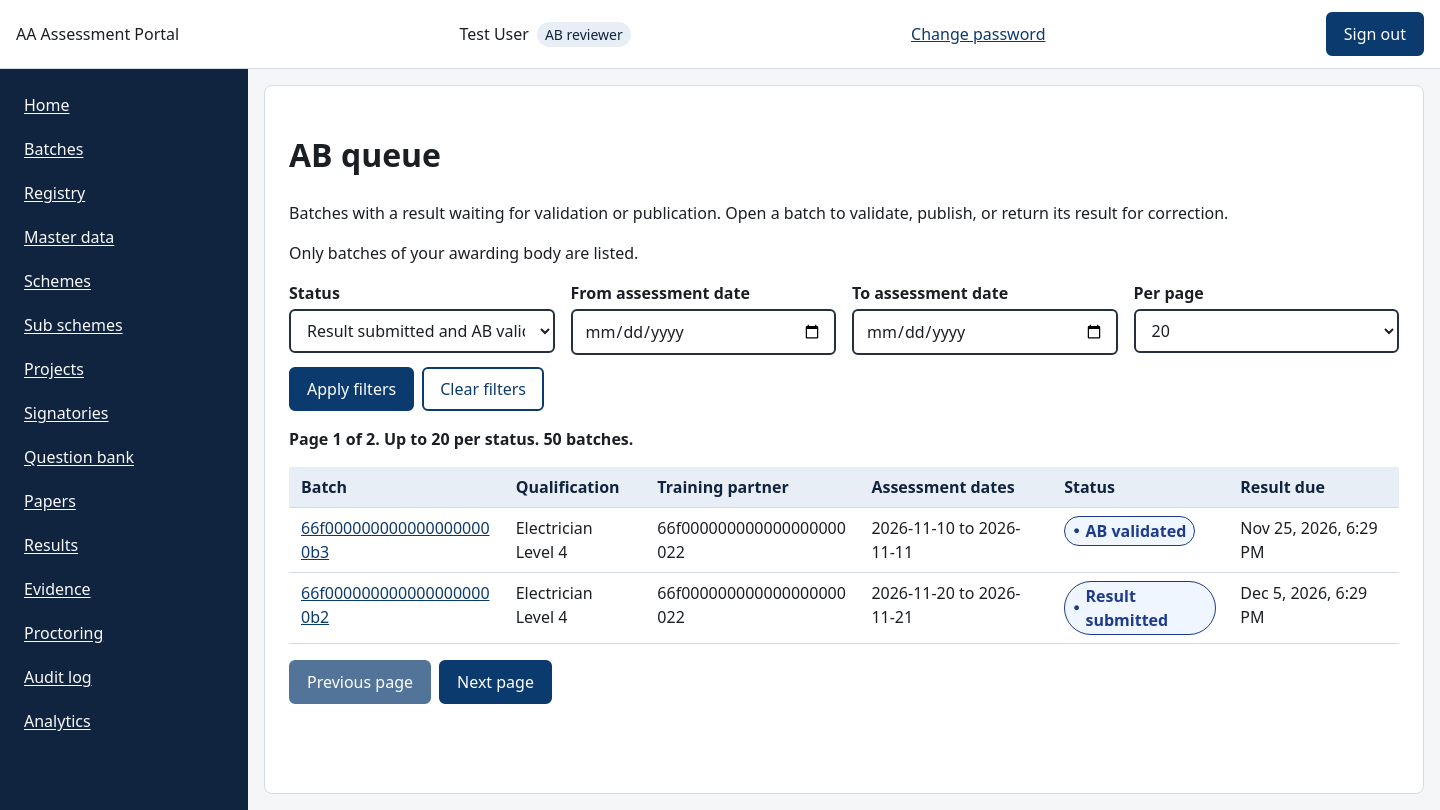
it: pages through both statuses with page and pageSize
Expected: the message shows "50 batches", [289,428,633,450]
Expected: the button "Previous page" is disabled, [289,660,431,704]
Click the button "Next page".
click(496, 682)  # box [439,660,552,704]
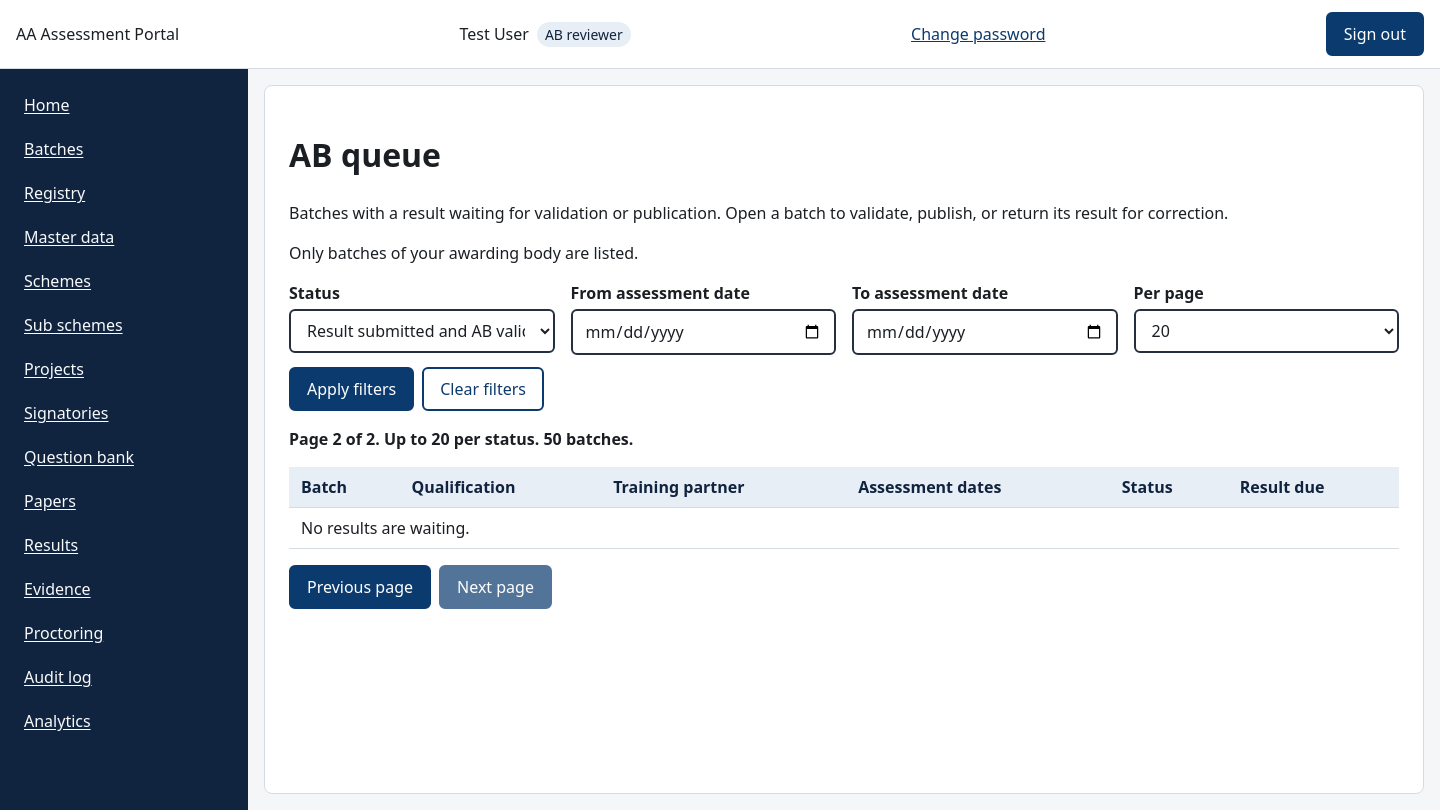
Now the text "Page 2 of 2. Up to 20 per status. 50 batches." is shown, box [289,428,633,450]
Now the button "Next page" is disabled, box [439,565,552,609]
Now the button "Previous page" is enabled, box [289,565,431,609]
